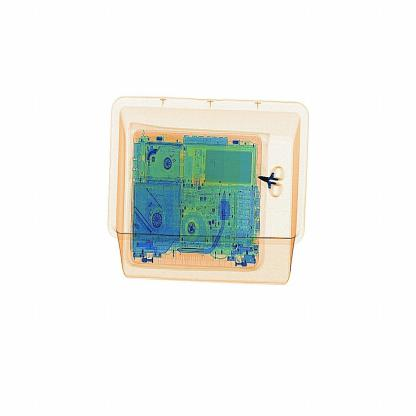gun: (254, 157, 294, 206)
